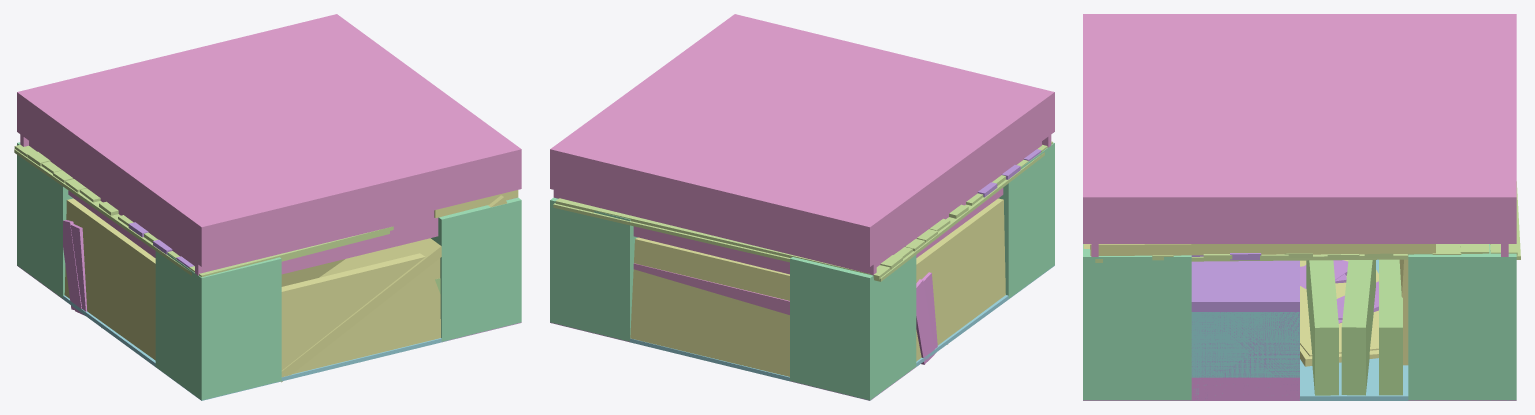
Rendered from bunker.glb.
3 renders of one model, left to right at view 1: azimuth 30°, elevation 25°; view 2: azimuth 150°, elevation 25°; view 3: azimuth 270°, elevation 25°, orthographic. The views are drawn at different scales.
Parts seen in each view (by area): view 1: S5|SM_Bunker_Roof_01A#0, S5|SM_HescoBarrier_Tall_Stage5_01a#0, S4|SM_AirRaidShelter_Sheet_Stage_01a#1, S5|SM_HescoBarrier_Tall_Stage5_01a#1, S4|SM_AirRaidShelter_Sheet_Stage_01a#2, S5|SM_HescoBarrier_Tall_Stage5_01a#2, S3|SM_AirRaidShelter_Sheet_Stage_01a#1, S5|SM_Bunker_Floor_01A#0, S4|SM_Wooden_Plank_03b#1, S2|SM_HescoBarrier_Tall_Stage1_01a#3, S4|SM_Wooden_Plank_03b#6, S3|SM_HescoBarrier_Tall_Stage1_01a#1 (+2 smaller); view 2: S5|SM_Bunker_Roof_01A#0, S5|SM_HescoBarrier_Tall_Stage5_01a#2, S4|SM_AirRaidShelter_Sheet_Stage_01a#0, S5|SM_HescoBarrier_Tall_Stage5_01a#3, S4|SM_AirRaidShelter_Sheet_Stage_01a#2, S5|SM_HescoBarrier_Tall_Stage5_01a#0, S4|SM_Wooden_Plank_03b#4, S5|SM_Bunker_Floor_01A#0, S4|SM_Wooden_Plank_03b#2, S2|SM_HescoBarrier_Tall_Stage1_01a#3, S4|SM_Wooden_Plank_03b#1, S3|SM_HescoBarrier_Tall_Stage1_01a#1; view 3: S5|SM_Bunker_Roof_01A#0, S5|SM_HescoBarrier_Tall_Stage5_01a#3, S5|SM_HescoBarrier_Tall_Stage5_01a#1, S5|SM_HESCO_Stage5_01a#0, S4|SM_HescoBarrier_Tall_Stage3_01a#0, S4|SM_SandBag_Barrier_Stage5#2, S4|SM_SandBag_Barrier_Stage5#1, S4|SM_AirRaidShelter_Sheet_Stage_01a#3, S4|SM_SandBag_Barrier_Stage5#0, S1|SM_HescoBarrier_Tall_Stage1_01a#2, S5|SM_Bunker_Floor_01A#0, S2|SM_AirRaidShelter_Sheet_Stage_01a#0 (+3 smaller).
Part boxes in pixels (x1,y1,x2,y2): S5|SM_Bunker_Roof_01A#0: (17, 14, 521, 275); S5|SM_HescoBarrier_Tall_Stage5_01a#0: (155, 251, 281, 400); S4|SM_AirRaidShelter_Sheet_Stage_01a#1: (281, 253, 440, 374); S5|SM_HescoBarrier_Tall_Stage5_01a#1: (431, 197, 521, 341); S4|SM_AirRaidShelter_Sheet_Stage_01a#2: (64, 198, 155, 360); S5|SM_HescoBarrier_Tall_Stage5_01a#2: (17, 142, 73, 298); S3|SM_AirRaidShelter_Sheet_Stage_01a#1: (281, 195, 506, 382); S5|SM_Bunker_Floor_01A#0: (19, 267, 513, 400); S4|SM_Wooden_Plank_03b#1: (14, 149, 191, 275); S2|SM_HescoBarrier_Tall_Stage1_01a#3: (63, 220, 81, 310); S4|SM_Wooden_Plank_03b#6: (188, 226, 393, 277); S3|SM_HescoBarrier_Tall_Stage1_01a#1: (70, 224, 86, 315); S5|SM_Bunker_Roof_01A#0: (550, 14, 1054, 314); S5|SM_HescoBarrier_Tall_Stage5_01a#2: (790, 255, 916, 400); S4|SM_AirRaidShelter_Sheet_Stage_01a#0: (630, 237, 789, 376); S5|SM_HescoBarrier_Tall_Stage5_01a#3: (550, 197, 637, 341); S4|SM_AirRaidShelter_Sheet_Stage_01a#2: (916, 198, 1005, 361); S5|SM_HescoBarrier_Tall_Stage5_01a#0: (998, 142, 1054, 298); S4|SM_Wooden_Plank_03b#4: (555, 198, 890, 279); S5|SM_Bunker_Floor_01A#0: (551, 265, 1054, 400); S4|SM_Wooden_Plank_03b#2: (553, 203, 790, 262); S2|SM_HescoBarrier_Tall_Stage1_01a#3: (916, 279, 934, 364); S4|SM_Wooden_Plank_03b#1: (874, 152, 1044, 281); S3|SM_HescoBarrier_Tall_Stage1_01a#1: (922, 272, 937, 361); S5|SM_Bunker_Roof_01A#0: (1083, 14, 1516, 256); S5|SM_HescoBarrier_Tall_Stage5_01a#3: (1408, 244, 1516, 400); S5|SM_HescoBarrier_Tall_Stage5_01a#1: (1083, 244, 1191, 400); S5|SM_HESCO_Stage5_01a#0: (1191, 260, 1299, 398); S4|SM_HescoBarrier_Tall_Stage3_01a#0: (1191, 312, 1299, 397); S4|SM_SandBag_Barrier_Stage5#2: (1341, 260, 1375, 395); S4|SM_SandBag_Barrier_Stage5#1: (1306, 260, 1338, 395); S4|SM_AirRaidShelter_Sheet_Stage_01a#3: (1090, 244, 1435, 255); S4|SM_SandBag_Barrier_Stage5#0: (1379, 259, 1402, 395); S1|SM_HescoBarrier_Tall_Stage1_01a#2: (1191, 377, 1299, 400); S5|SM_Bunker_Floor_01A#0: (1196, 259, 1508, 400); S2|SM_AirRaidShelter_Sheet_Stage_01a#0: (1300, 260, 1378, 356).
Size of the model in its own units: 6.14 by 3.19 by 6.06.
